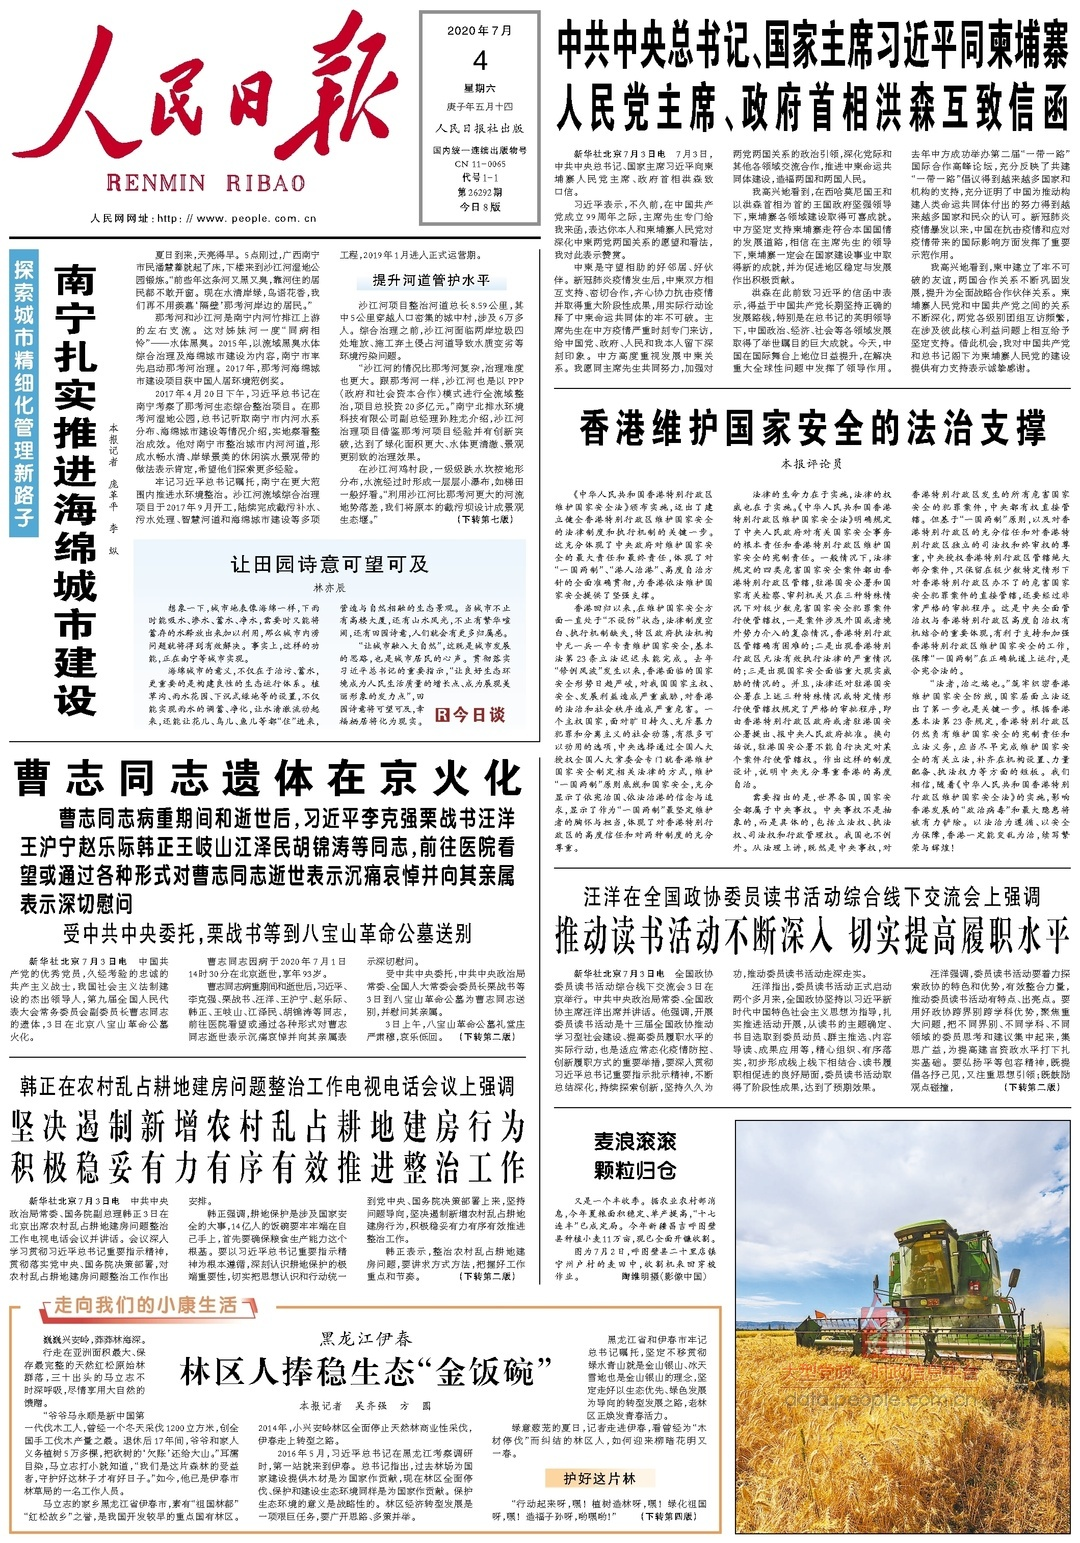pic: (729, 1115, 1076, 1539)
